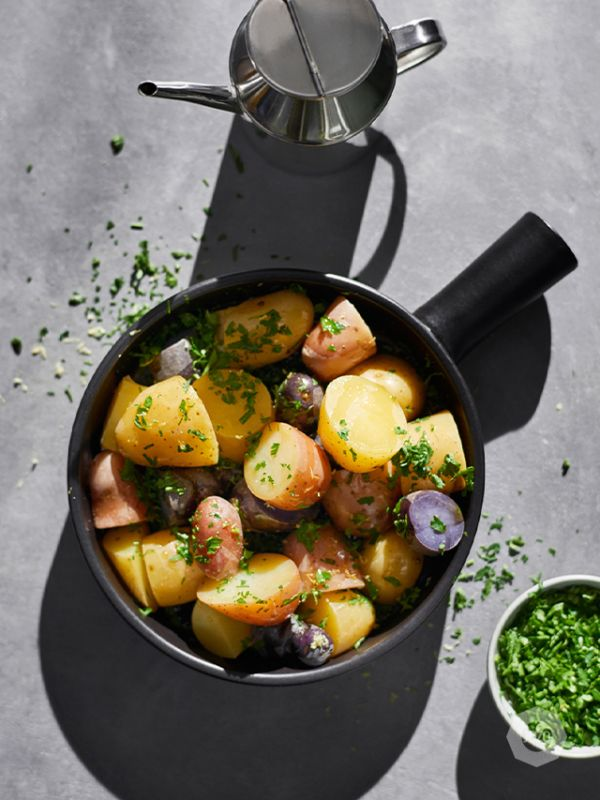boiled potatoes: (326, 372, 398, 463), (123, 389, 210, 464), (110, 532, 198, 606), (212, 299, 308, 360), (257, 426, 332, 504), (197, 367, 263, 442), (211, 564, 299, 620), (395, 416, 457, 490), (193, 502, 248, 577), (308, 306, 369, 370), (369, 535, 416, 595)
